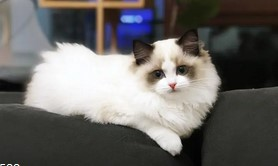cat: (22, 27, 221, 156)
